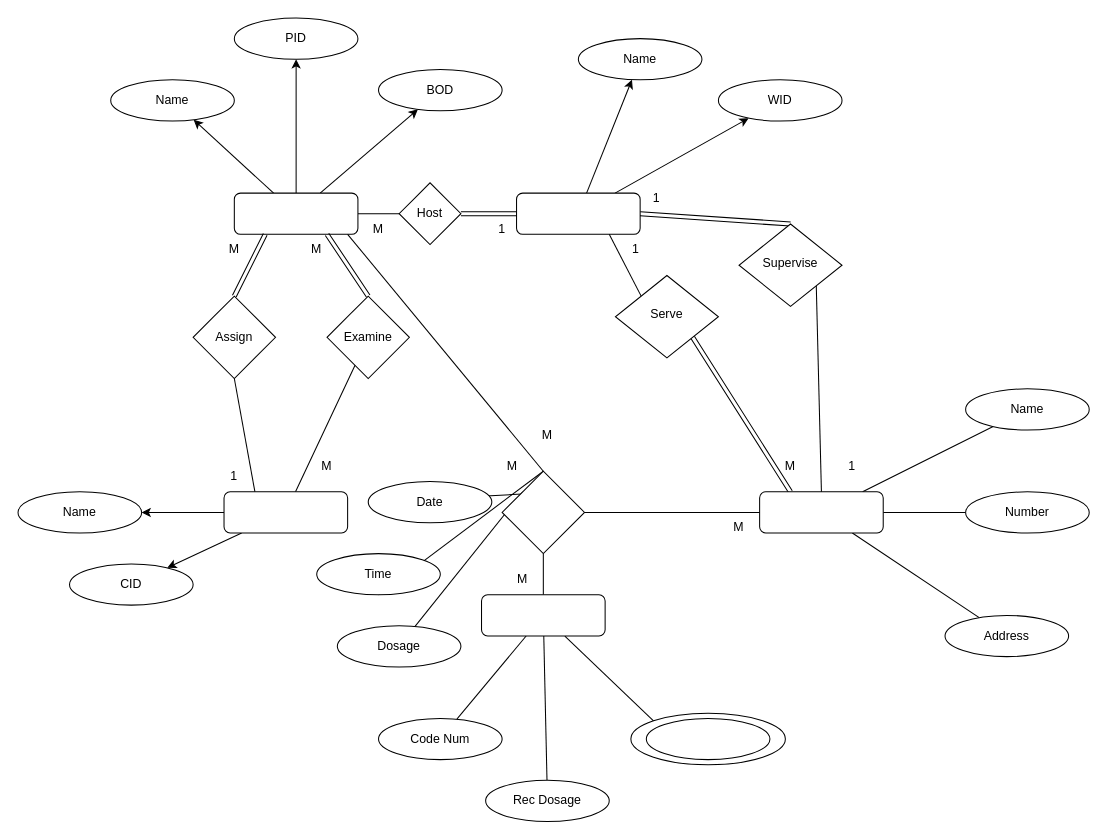
Some shapes in this 1107 by 839 pixel diagram are drawn without their labels. Each missing label, with the box of its shape:
Brand: (645, 717, 770, 760)
Consultant: (223, 491, 348, 533)
Drug: (480, 594, 605, 636)
Has: (501, 470, 585, 554)
Nurse: (759, 491, 883, 533)
Patient: (233, 192, 358, 234)
Ward: (516, 192, 640, 234)
